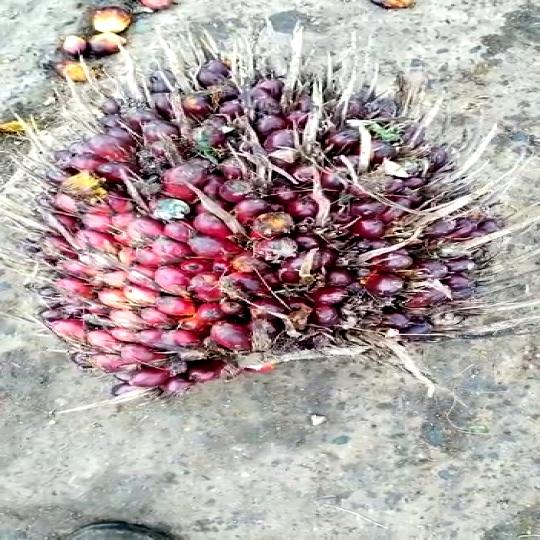masak: (32, 58, 499, 397)
